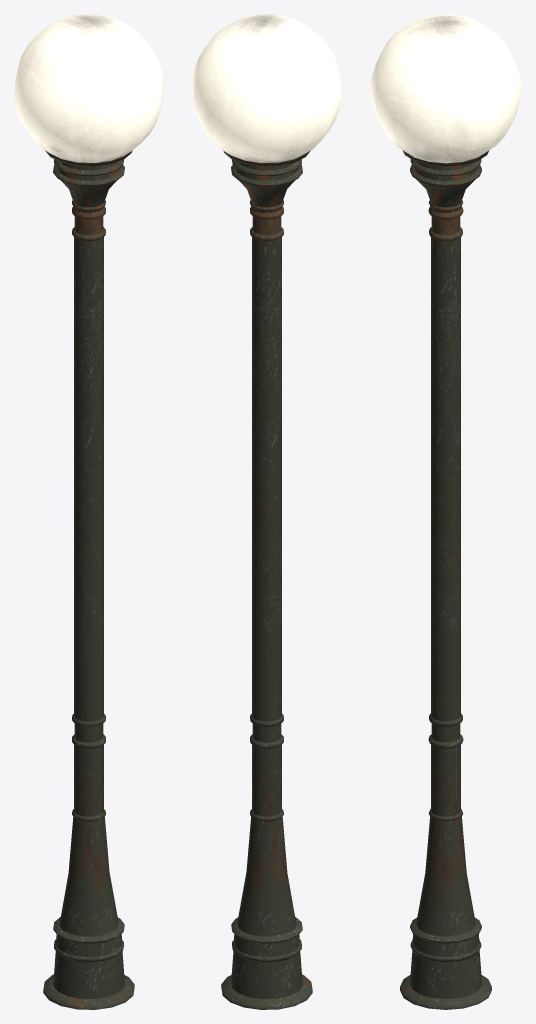
Rendered from lamp.glb.
The picture shows the model from 3 angles, left to right: view 1: azimuth 30°, elevation 25°; view 2: azimuth 150°, elevation 25°; view 3: azimuth 270°, elevation 25°; orthographic projection.
Parts seen in each view (by area): view 1: LANTERN; view 2: LANTERN; view 3: LANTERN.
Part boxes in pixels (box(x1,y1,x2,y2)): LANTERN: box(14, 14, 163, 1009); LANTERN: box(192, 14, 341, 1009); LANTERN: box(370, 14, 521, 1009).
Bounding box in the file's own units: 0.4 × 2.85 × 0.4.
1 material, 1 textured.
